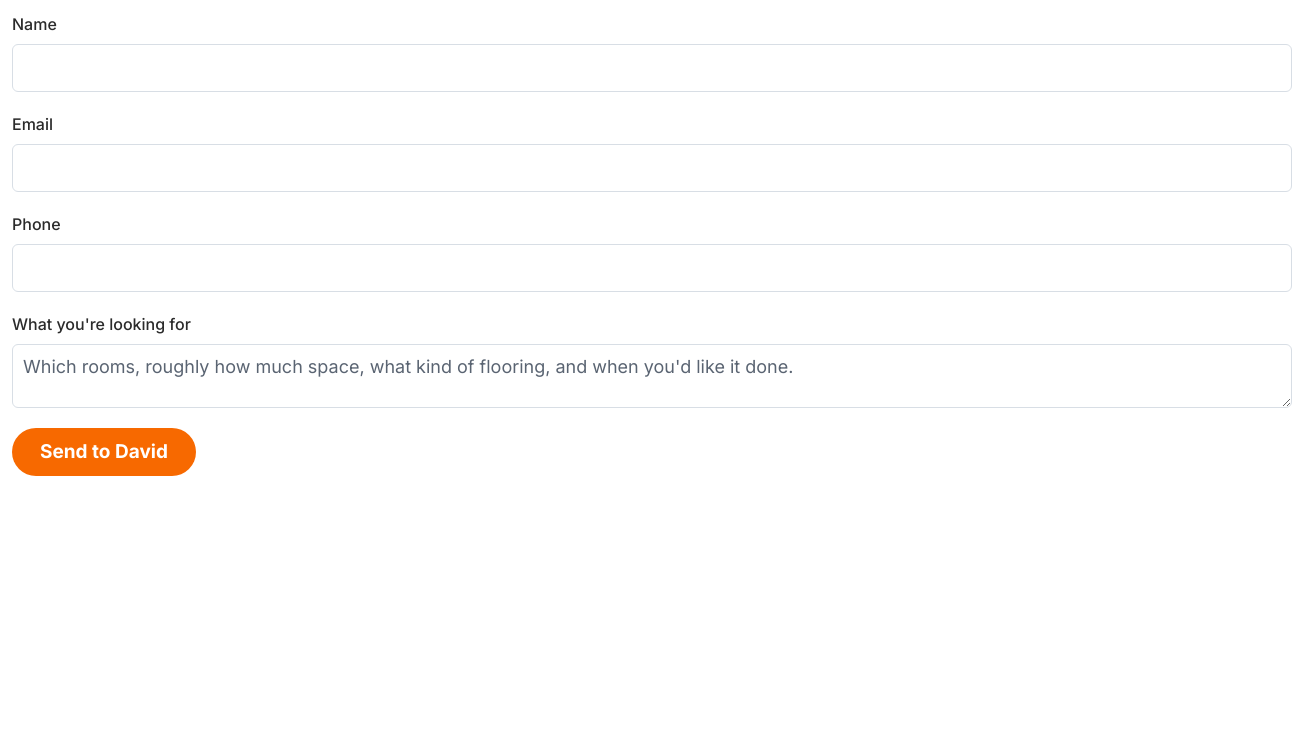
Test case: LeadForm › shows inline errors and does not submit when empty
Step 1. Click the button "Send to David" → [104, 452], box [12,428,196,476]
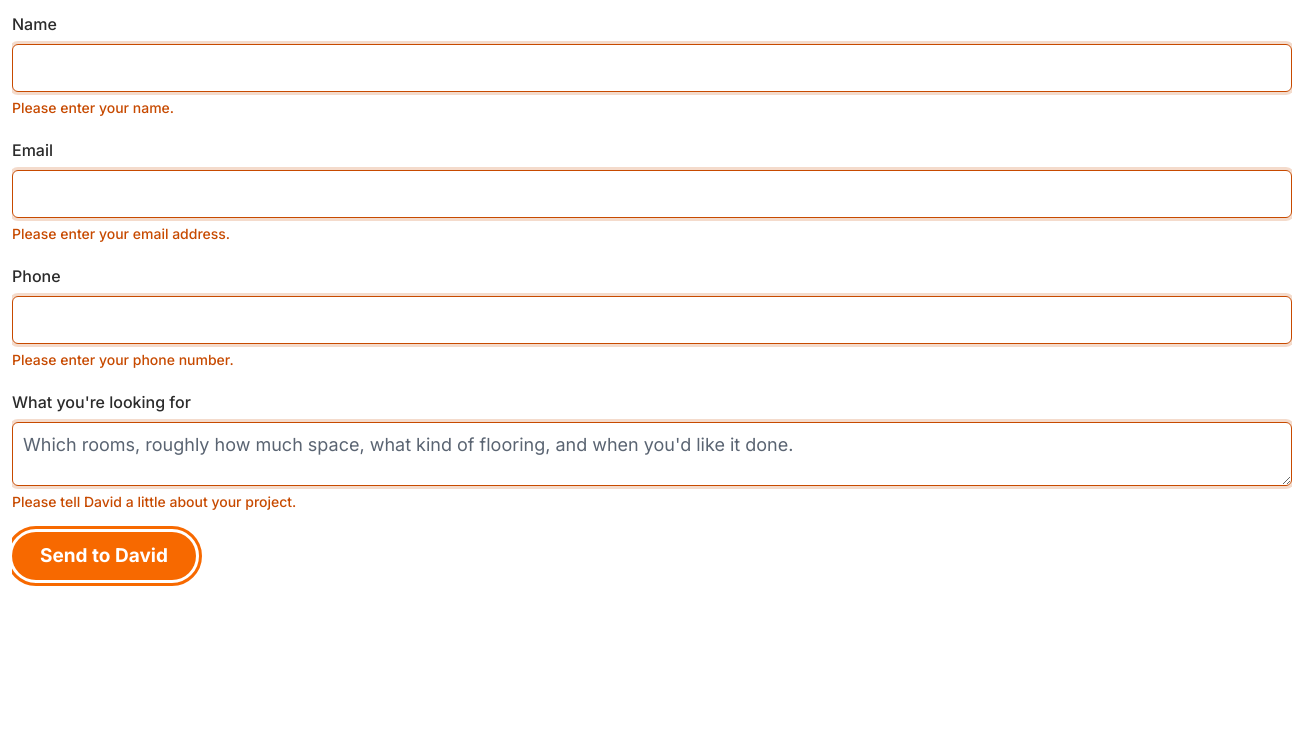
Expected: the text "Please enter your name." is shown, [12,99,174,116]
